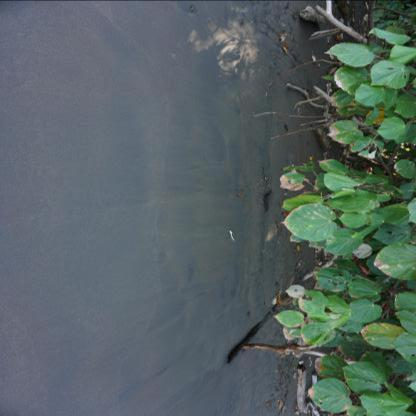Other litter: (229, 231, 234, 240)
